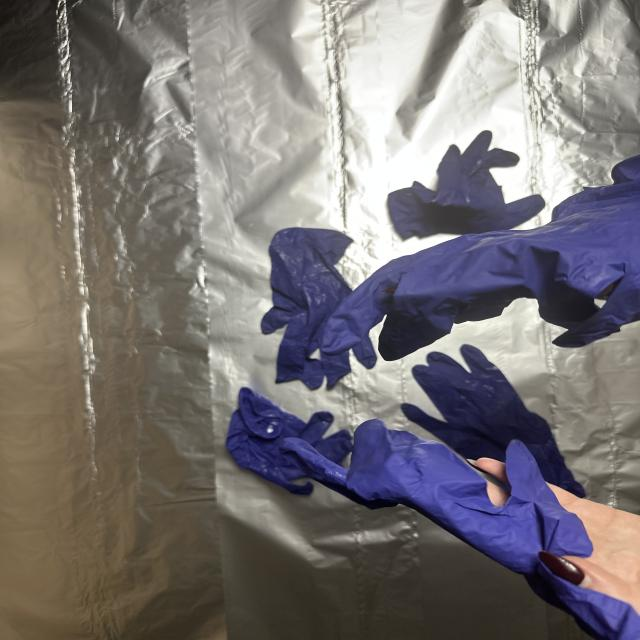glove_not_fitted: (292, 412, 640, 639), (323, 190, 640, 362)
